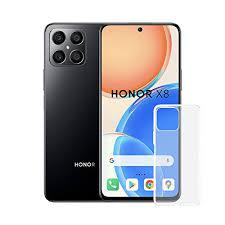Smartphone: (103, 20, 175, 199), (47, 22, 102, 200)
